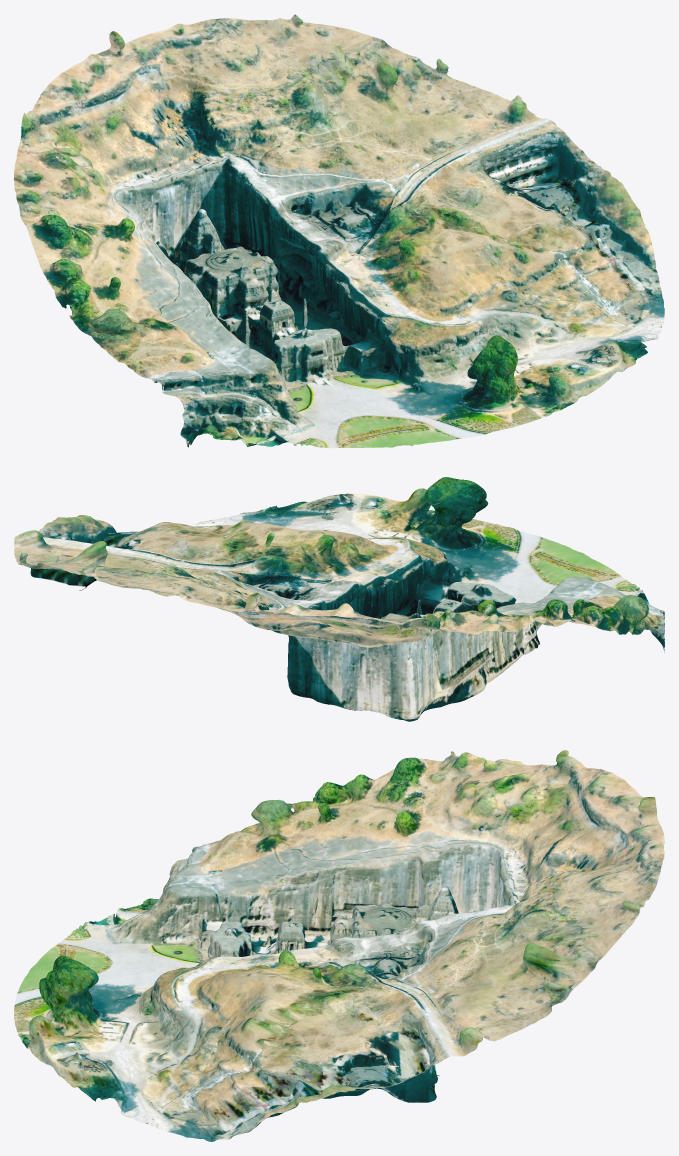
The model's file is sf-ellora-caves-india-1a5ec1.glb.
3 views of the same model, one above another, from view 1: azimuth 30°, elevation 25°; view 2: azimuth 150°, elevation 25°; view 3: azimuth 270°, elevation 25° (orthographic).
Parts seen in each view (by area): view 1: Retopo_Model_Tex_0; view 2: Retopo_Model_Tex_0; view 3: Retopo_Model_Tex_0.
Part boxes in pixels (x1,y1,x2,y2): Retopo_Model_Tex_0: (14, 14, 664, 448); Retopo_Model_Tex_0: (14, 477, 664, 721); Retopo_Model_Tex_0: (14, 750, 664, 1141).
Size of the model in its own units: 2586 by 862 by 2584.
1 material, 1 textured.
